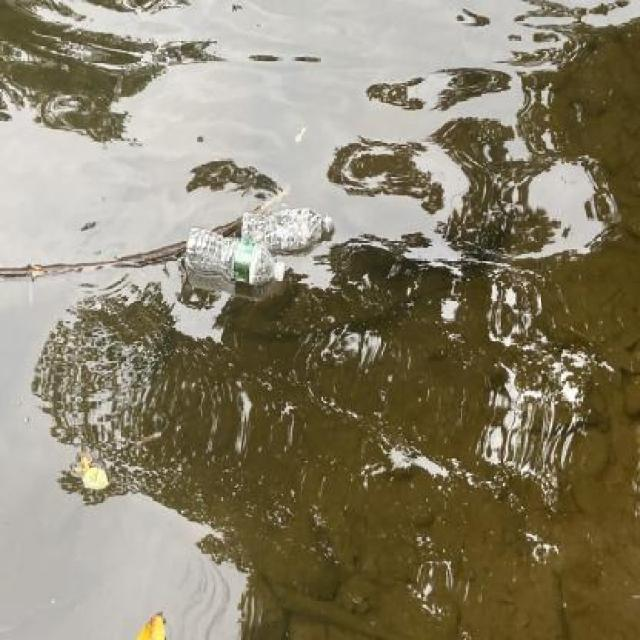Plastic: (181, 220, 290, 292), (236, 203, 340, 254)
